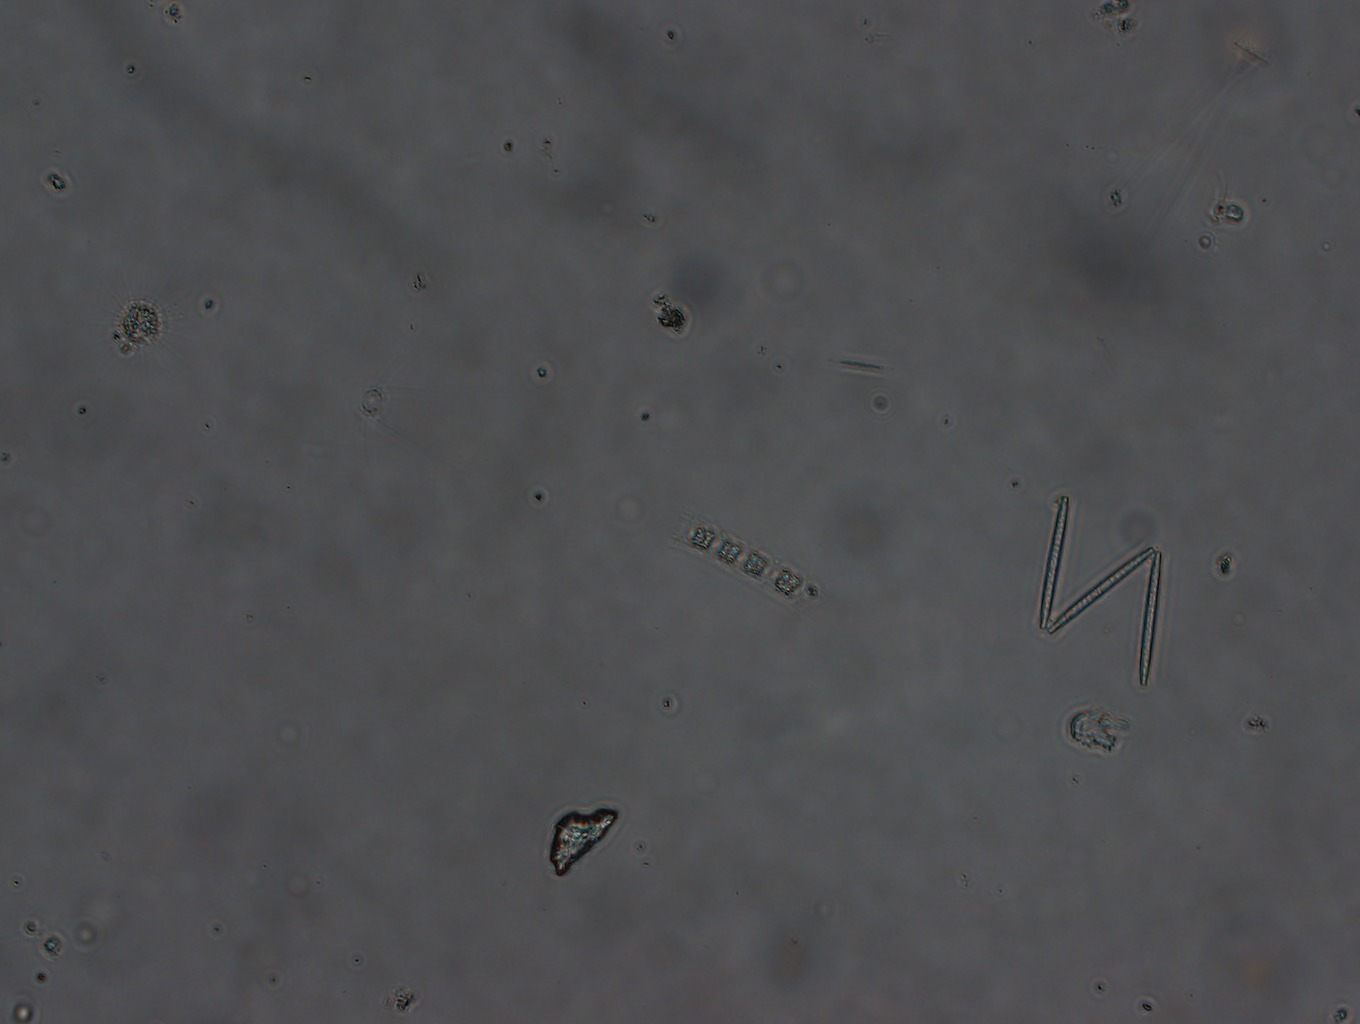skeletonema: (673, 506, 817, 611)
thalassionema nitzschioides: (1026, 485, 1173, 694)
